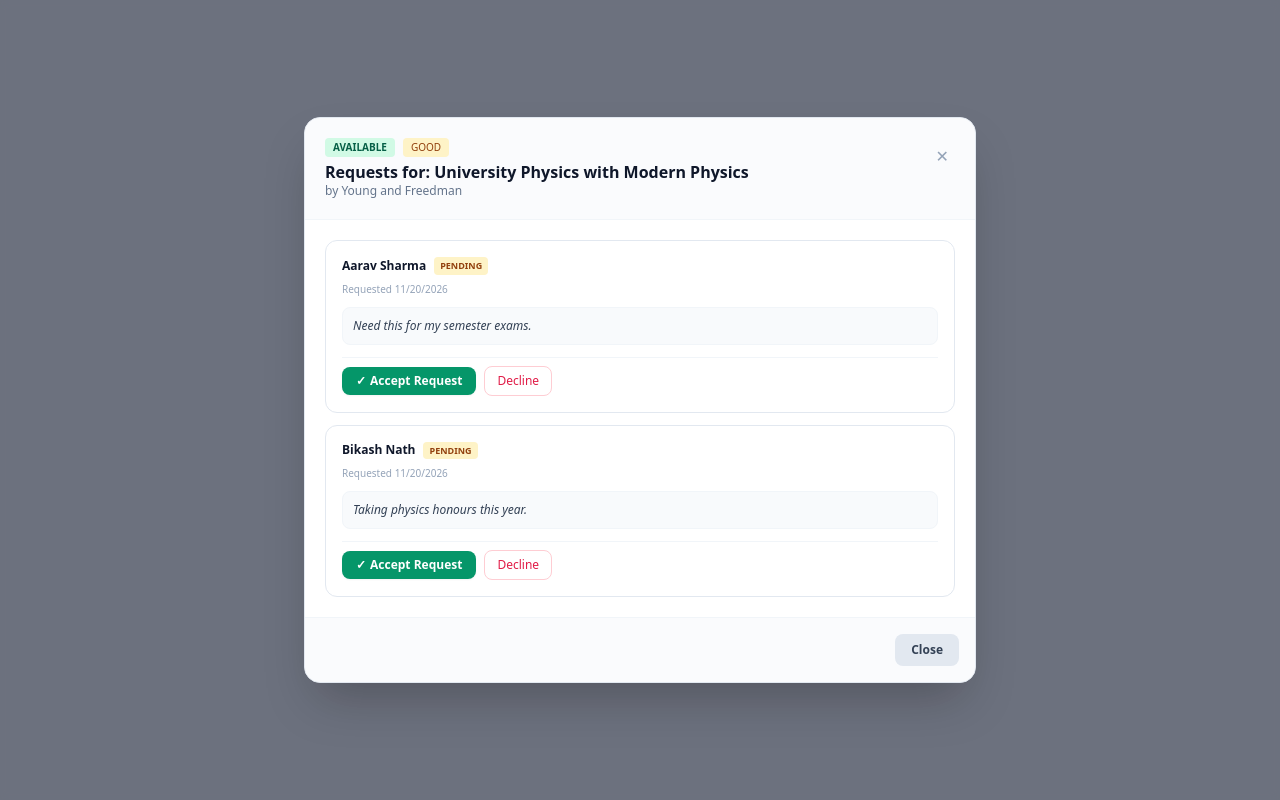
Test case: DonorRequestModal Component (CS-007) › allows donor to decline a pending request and triggers onDeclineRequest
Later steps or results of the test are not shown.
Note: Clicking decline opens reason input
Step 1. Click the button with test id "decline-request-btn" → [518, 380], box [484,366,552,396]
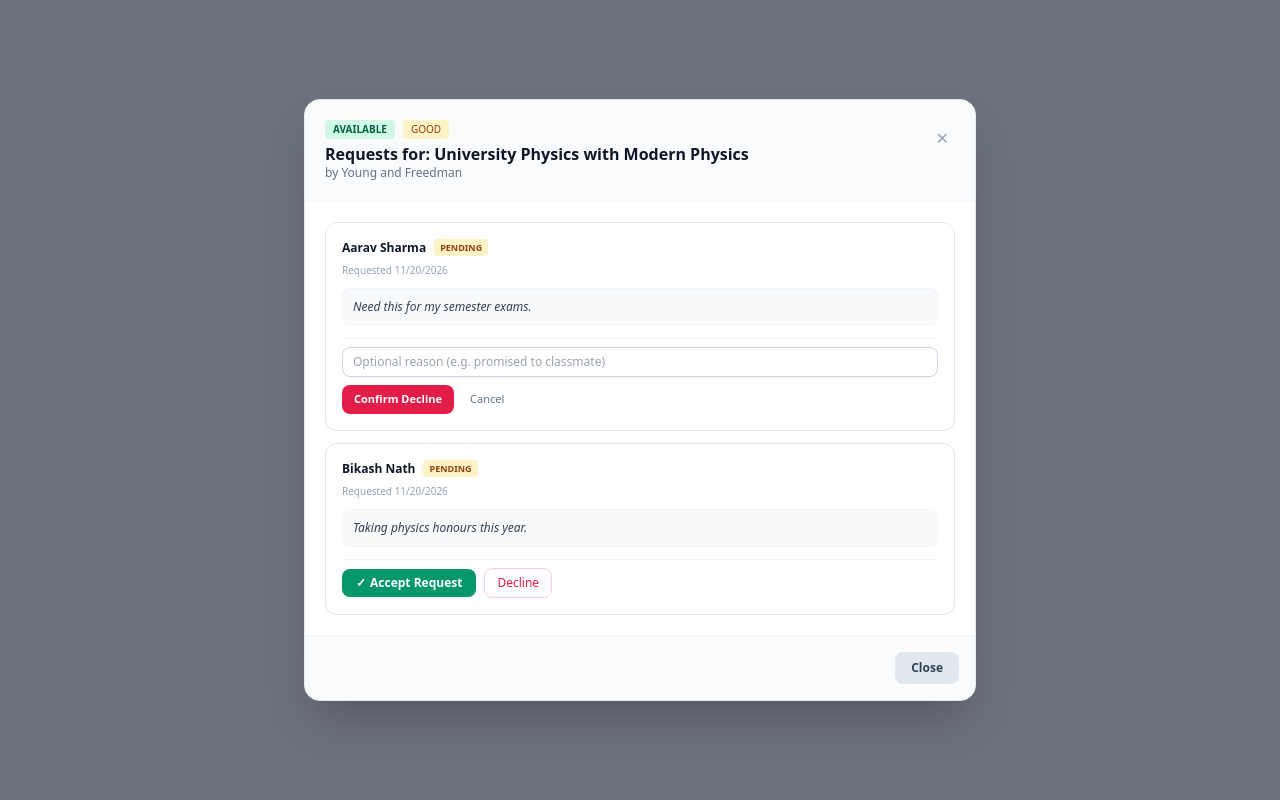
Now the field with test id "decline-reason-input" is shown, box [342,347,938,377]
